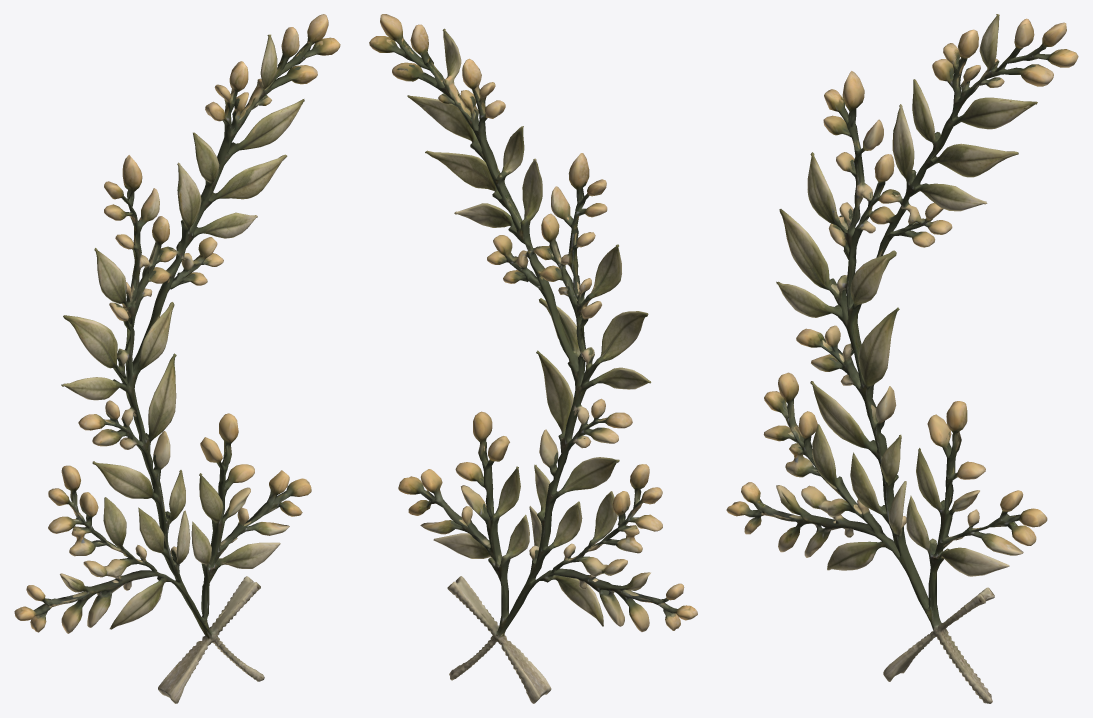
The model's file is ramo_direito_convite_15k.glb.
3 views of the same model, side by side, from view 1: azimuth 30°, elevation 25°; view 2: azimuth 150°, elevation 25°; view 3: azimuth 330°, elevation 25° (orthographic). The views are drawn at different scales.
Visible parts, largest first — view 1: tripo_node_b65572bc-b342-429d-8466-a3115decbe32; view 2: tripo_node_b65572bc-b342-429d-8466-a3115decbe32; view 3: tripo_node_b65572bc-b342-429d-8466-a3115decbe32.
Part boxes in pixels (left/top/right/bottom): tripo_node_b65572bc-b342-429d-8466-a3115decbe32: left=14, top=14, right=340, bottom=703; tripo_node_b65572bc-b342-429d-8466-a3115decbe32: left=369, top=14, right=697, bottom=703; tripo_node_b65572bc-b342-429d-8466-a3115decbe32: left=726, top=14, right=1078, bottom=703.
Size of the model in its own units: 0.5128 by 0.9815 by 0.0431.
Materials: 1 (1 with a texture image).
